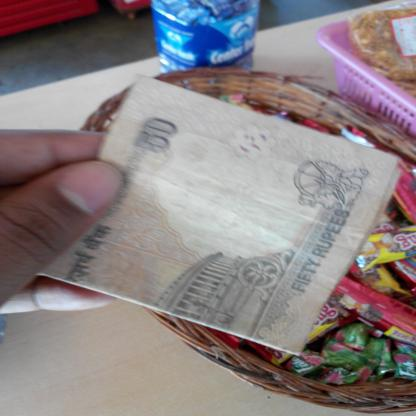Old50Back: (38, 74, 402, 356)
